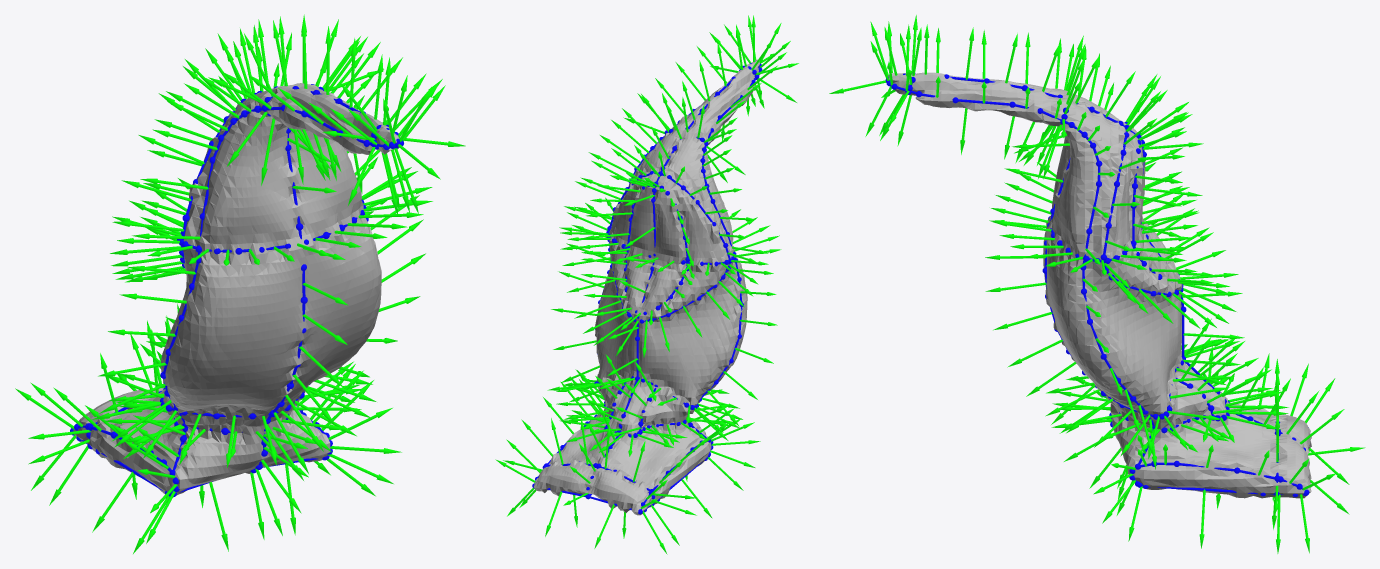
The model's file is t2f_vacuum.gltf.
3 views of the same model, side by side, from view 1: azimuth 30°, elevation 25°; view 2: azimuth 150°, elevation 25°; view 3: azimuth 270°, elevation 25° (orthographic). The views are drawn at different scales.
Bounding box in the file's own units: 0.5045 × 0.8708 × 0.8559.
